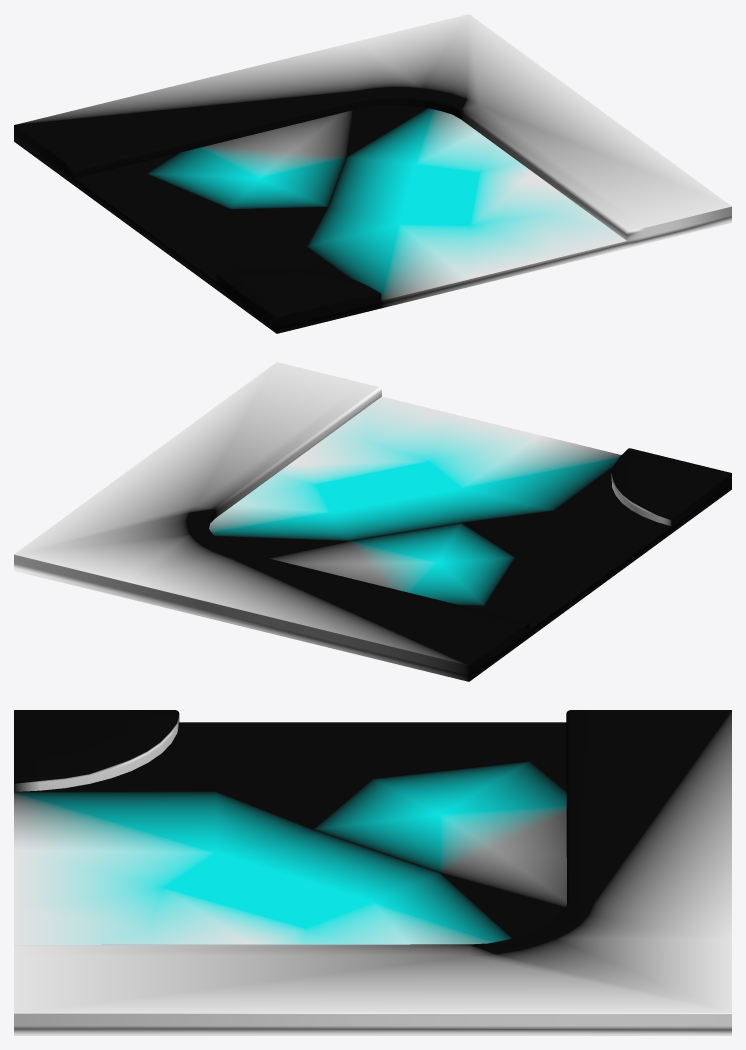
3 renders of one model, top to bottom at view 1: azimuth 30°, elevation 25°; view 2: azimuth 150°, elevation 25°; view 3: azimuth 270°, elevation 25°, orthographic. The views are drawn at different scales.
Parts seen in each view (by area): view 1: SM_Module_4x4_05_LOD0; view 2: SM_Module_4x4_05_LOD0; view 3: SM_Module_4x4_05_LOD0.
Part boxes in pixels (bbox=[...]): SM_Module_4x4_05_LOD0: bbox=[14, 14, 731, 333]; SM_Module_4x4_05_LOD0: bbox=[14, 362, 731, 681]; SM_Module_4x4_05_LOD0: bbox=[14, 710, 731, 1035].
Size of the model in its own units: 400 by 400 by 13.86.
